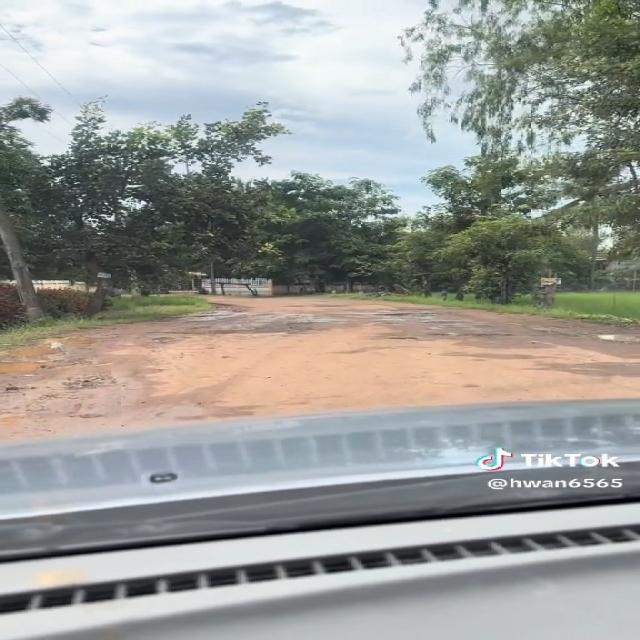Poth-hole: (128, 342, 243, 419)
